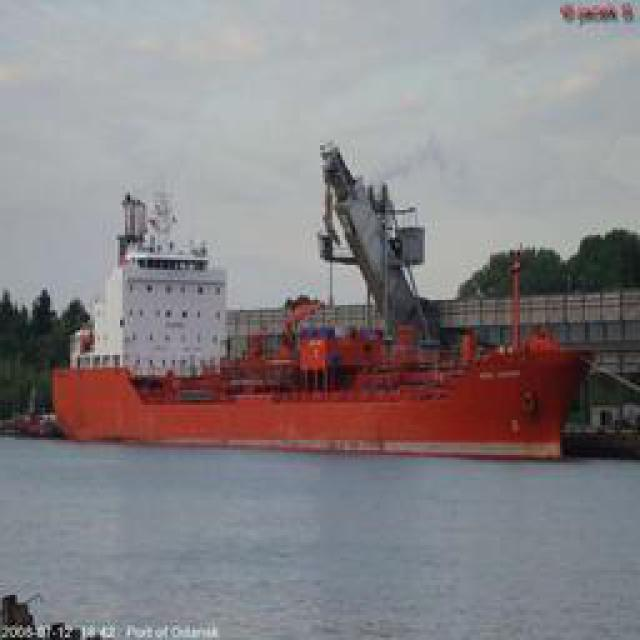Ship: (39, 136, 619, 454)
